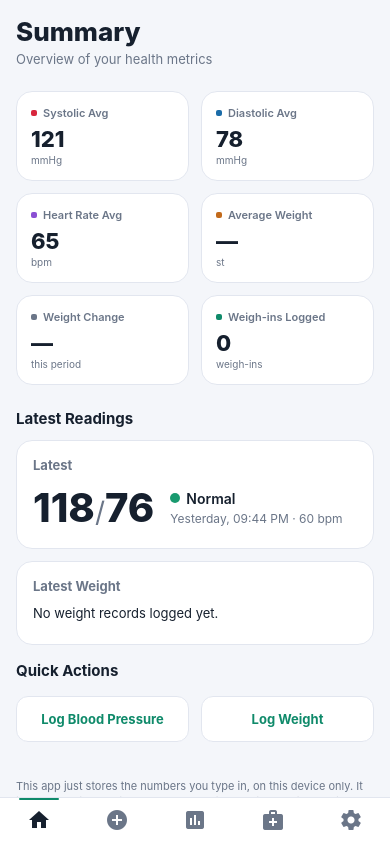
App › loads readings saved by a previous run
Expected: the text "Summary" is shown, [16, 16, 141, 47]
Click the tab named "Log" at coordinates (117, 820), box [105, 808, 129, 832]
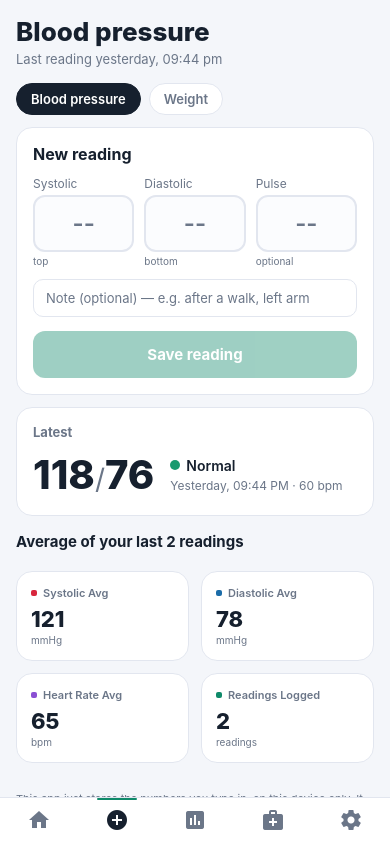
Result: the text "New reading" is shown at [33, 144, 132, 164]
Result: the text "Last reading yesterday, 09:44 pm" is shown at [16, 51, 222, 67]
Result: the text "Average of your last 2 readings" is shown at [16, 532, 244, 551]
